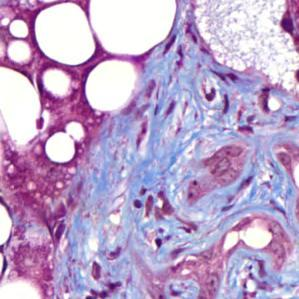steatosis: (27, 4, 96, 67), (83, 58, 139, 114)
